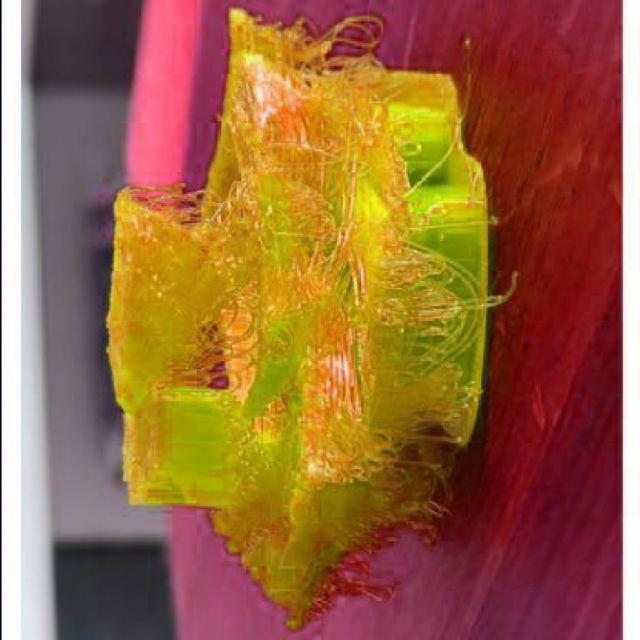spaghetti: (96, 181, 519, 502), (207, 3, 424, 172), (198, 497, 442, 635)
